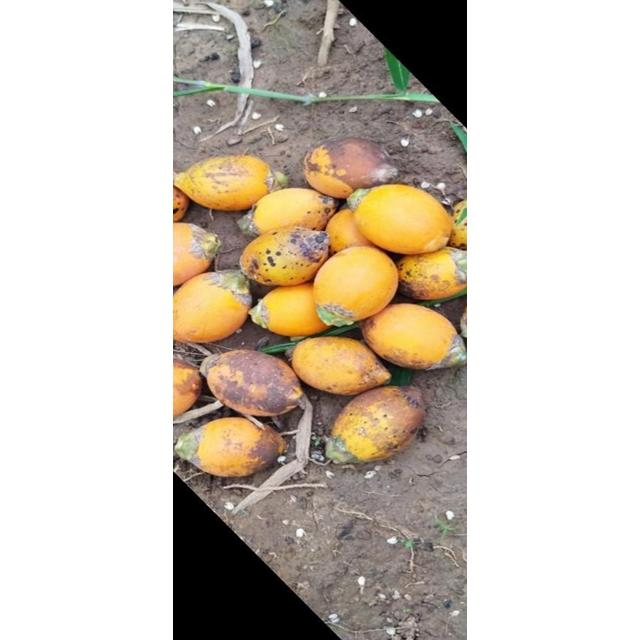good: (324, 386, 426, 462), (353, 185, 453, 255), (313, 246, 399, 326), (360, 304, 464, 370), (201, 349, 303, 416), (173, 152, 295, 208), (175, 416, 288, 476), (173, 270, 251, 344), (304, 137, 398, 197), (290, 338, 390, 394), (239, 227, 331, 287), (242, 188, 338, 238), (252, 284, 332, 338), (394, 247, 466, 301), (173, 223, 220, 289), (326, 208, 376, 254)
